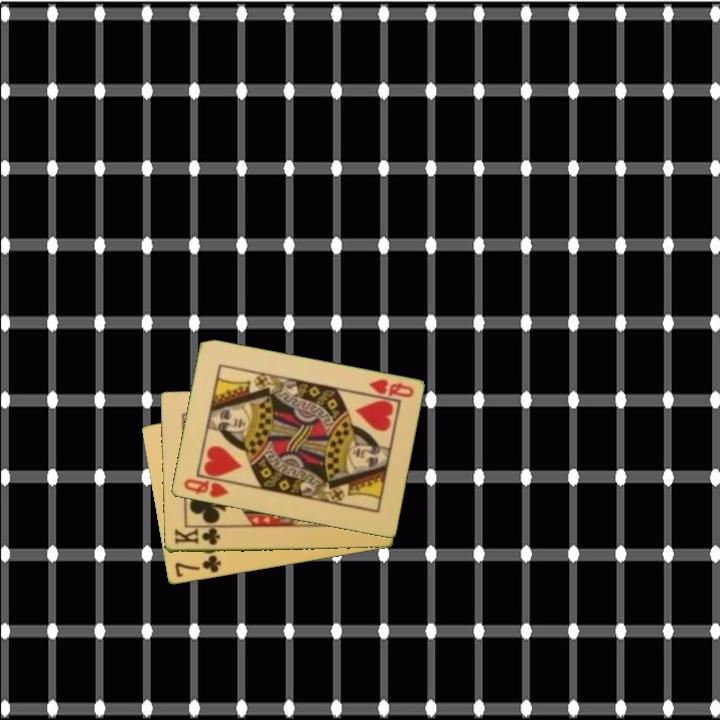7c: (171, 552, 223, 580)
Kc: (171, 526, 222, 548)
Qh: (180, 475, 231, 501), (365, 376, 416, 401)
